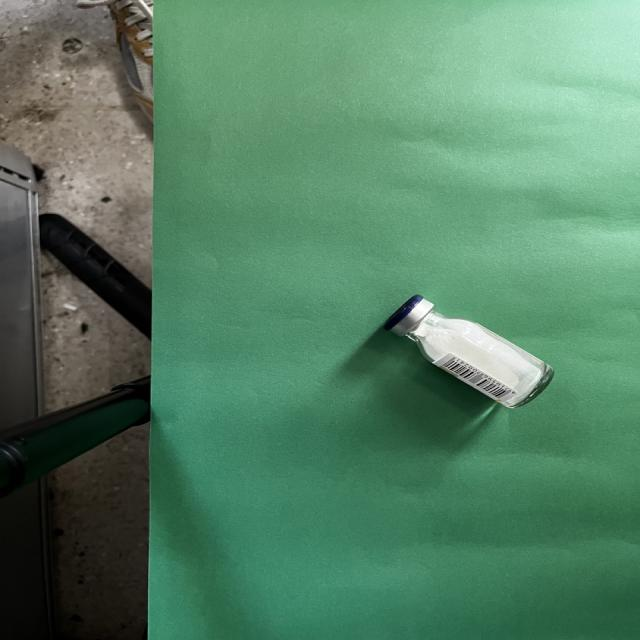Vials: (383, 294, 553, 408)
